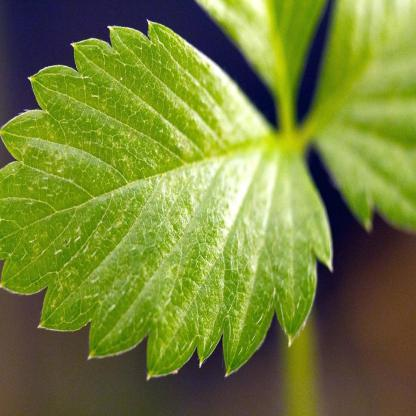strawberry leaf: (0, 7, 332, 378)
